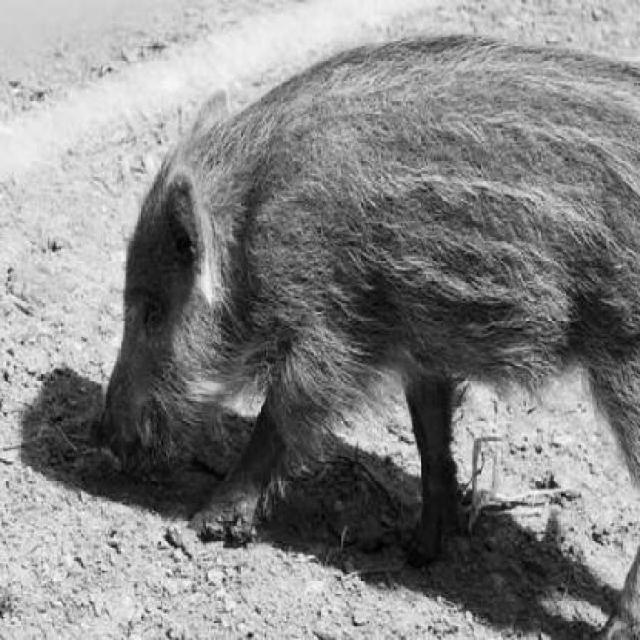Boar: (66, 7, 640, 638)
